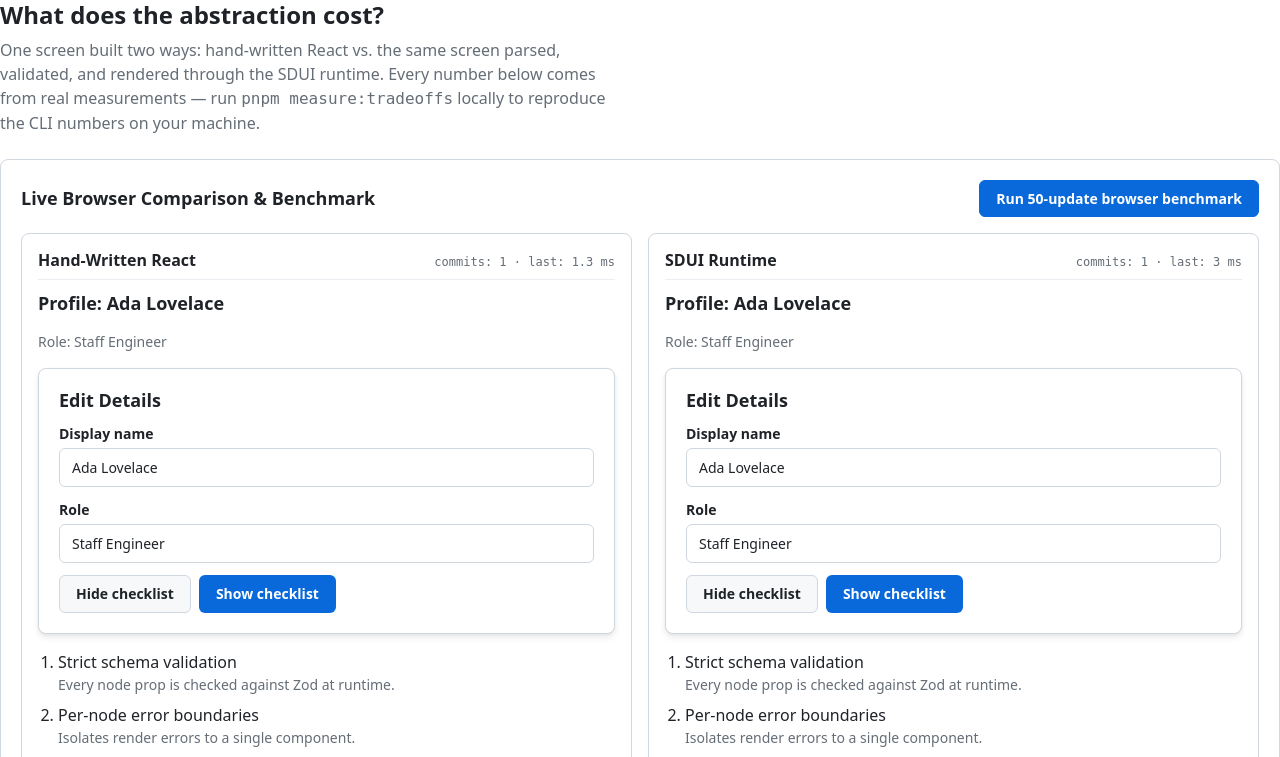
Test: TradeoffsView › runs the 50-update browser benchmark and displays real timings
Click the button "Run 50-update browser benchmark": (1119,198) [979,180,1259,217]
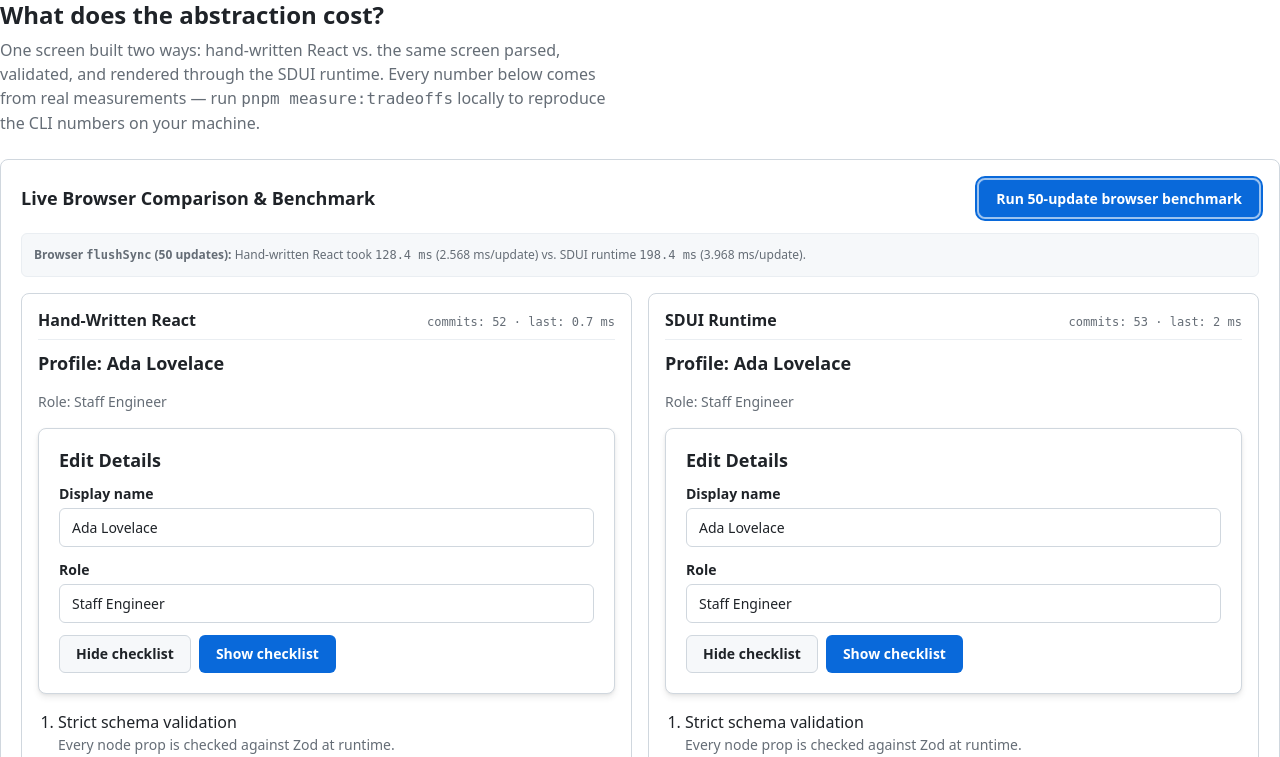
Now the message shows "Browser flushSync (50 updates):", box [21,233,1259,277]
